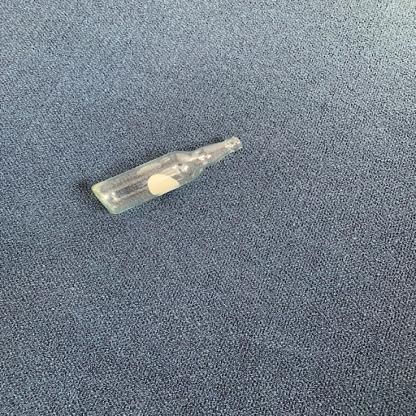trash: (88, 136, 254, 218)
